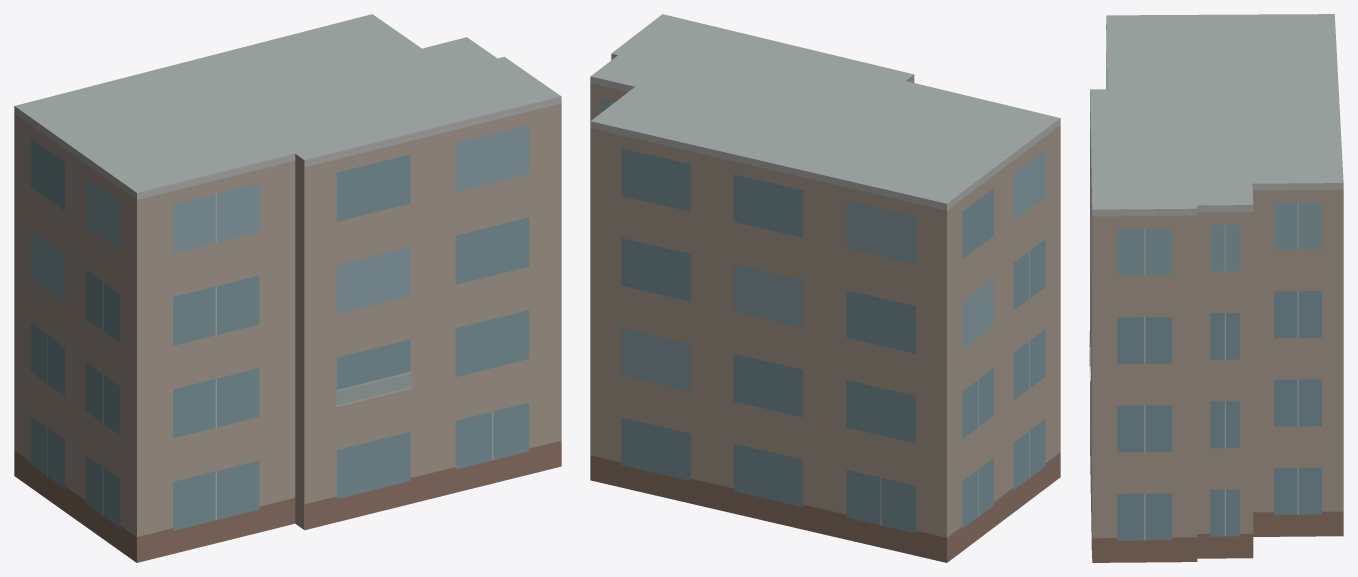
The model's file is survey-upis-32665372.glb.
3 renders of one model, left to right at view 1: azimuth 30°, elevation 25°; view 2: azimuth 150°, elevation 25°; view 3: azimuth 270°, elevation 25°, orthographic. The views are drawn at different scales.
Parts seen in each view (by area): view 1: survey-upis-32665372.tmp; view 2: survey-upis-32665372.tmp; view 3: survey-upis-32665372.tmp.
Part boxes in pixels (x1,y1,x2,y2): survey-upis-32665372.tmp: [14, 14, 561, 562]; survey-upis-32665372.tmp: [590, 14, 1060, 562]; survey-upis-32665372.tmp: [1089, 14, 1343, 562].
Size of the model in its own units: 15.22 by 12.8 by 8.37.
